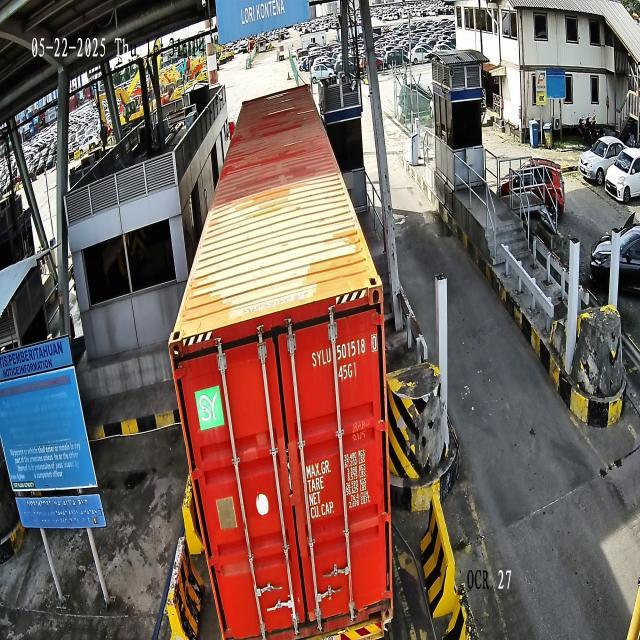ISO: (338, 361, 358, 384)
container_number: (311, 332, 378, 368)
